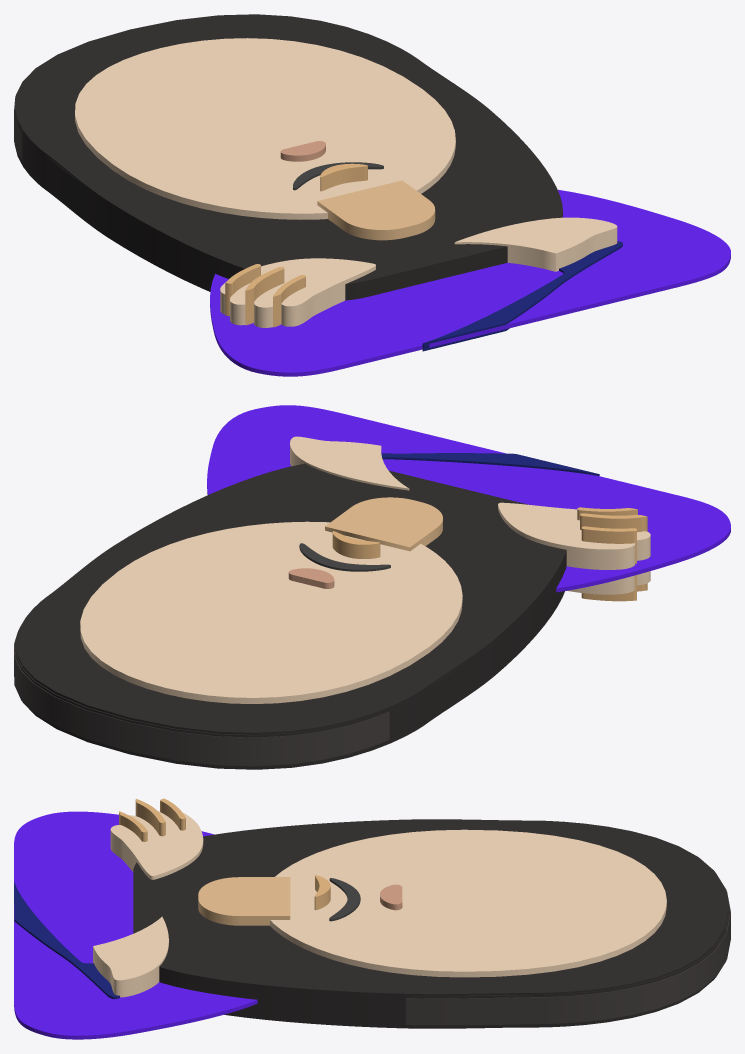
The model's file is emoji_u1f64e_1f3fb_200d_2640.glb.
3 renders of one model, top to bottom at view 1: azimuth 30°, elevation 25°; view 2: azimuth 150°, elevation 25°; view 3: azimuth 270°, elevation 25°, orthographic. The views are drawn at different scales.
Parts seen in each view (by area): view 1: emoji_u1f64e_1f3fb_200d_2640; view 2: emoji_u1f64e_1f3fb_200d_2640; view 3: emoji_u1f64e_1f3fb_200d_2640.
Part boxes in pixels (<box>): emoji_u1f64e_1f3fb_200d_2640: <box>14,14,730,376</box>; emoji_u1f64e_1f3fb_200d_2640: <box>14,405,730,769</box>; emoji_u1f64e_1f3fb_200d_2640: <box>14,798,730,1039</box>.
Bounding box in the file's own units: 0.025 × 0.0038 × 0.0338.
